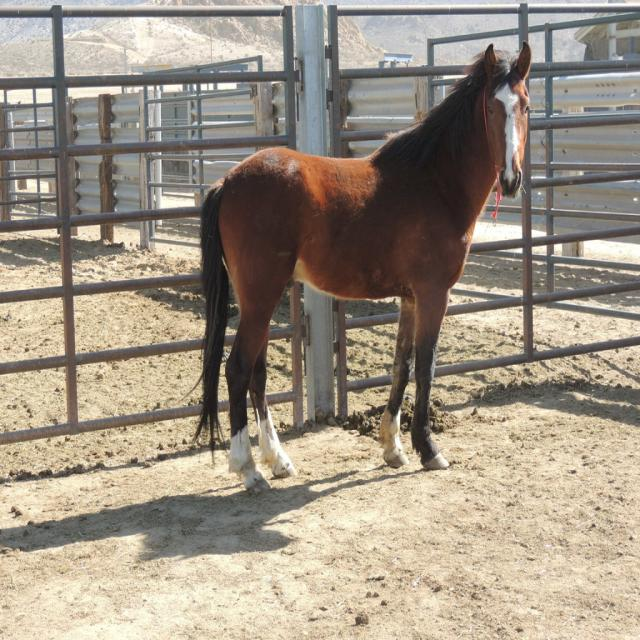Horse: (176, 42, 536, 497)
